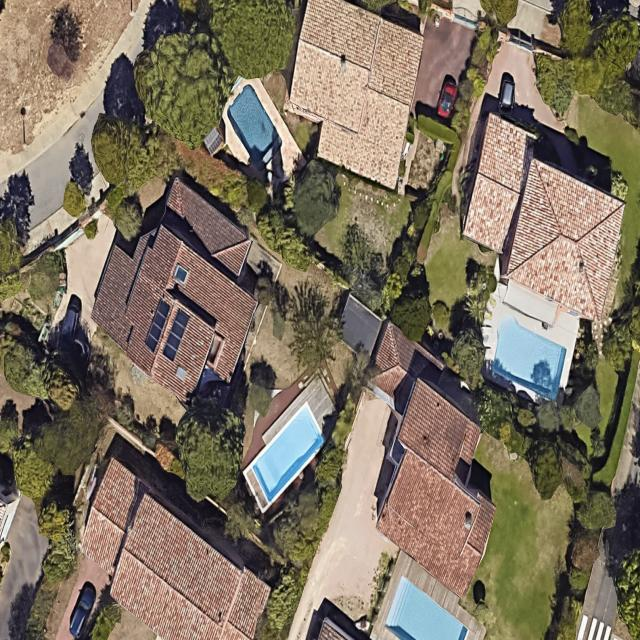maison: (60, 169, 310, 418), (41, 453, 285, 640), (360, 376, 522, 600), (273, 0, 429, 189), (499, 158, 632, 320), (457, 113, 537, 252)
